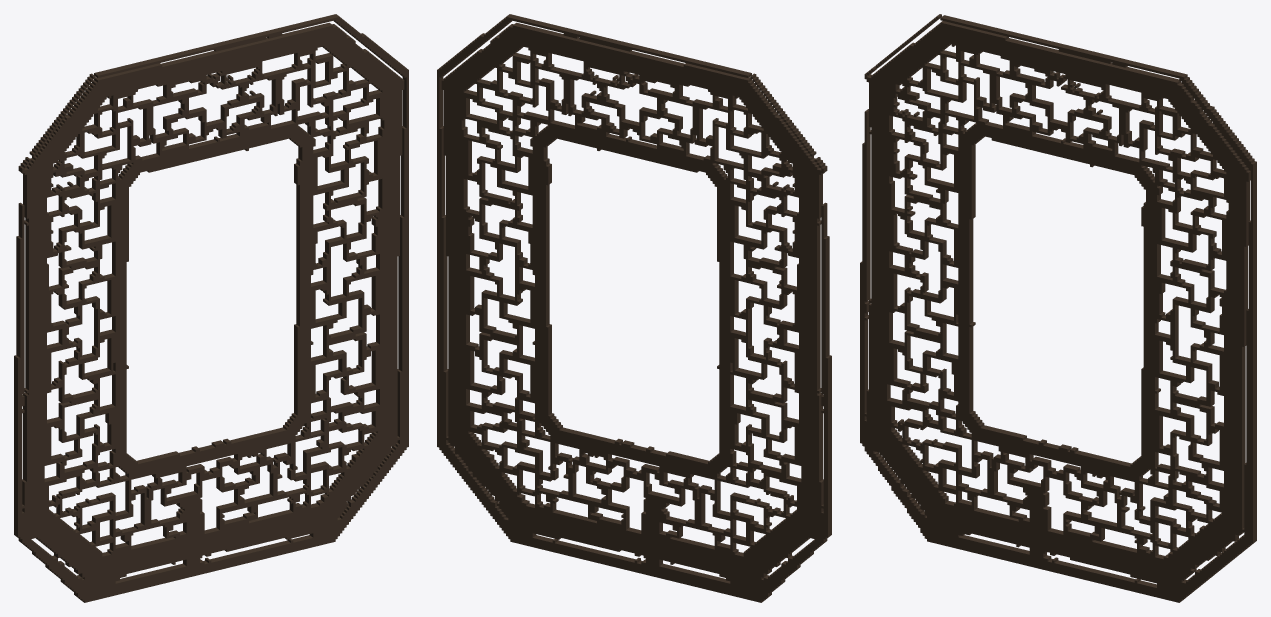
The model's file is lattice_window.glb.
3 views of the same model, side by side, from view 1: azimuth 30°, elevation 25°; view 2: azimuth 150°, elevation 25°; view 3: azimuth 330°, elevation 25° (orthographic).
Parts seen in each view (by area): view 1: Lattice_Silhouette; view 2: Lattice_Silhouette; view 3: Lattice_Silhouette.
Part boxes in pixels (x1,y1,x2,y2): Lattice_Silhouette: [14, 14, 408, 602]; Lattice_Silhouette: [437, 14, 831, 602]; Lattice_Silhouette: [860, 14, 1256, 602].
Size of the model in its own units: 1.5 by 1.92 by 0.0255.
